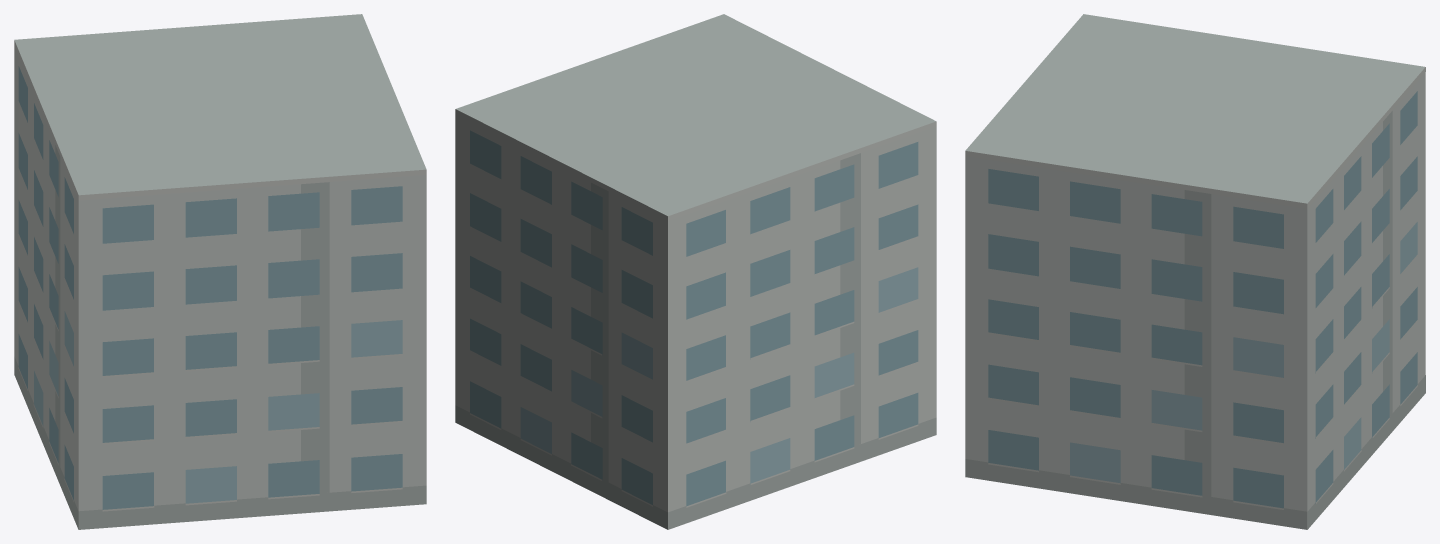
The model's file is residential-fc3b00f5-edf3-4f63-9893-389c9d15521f.glb.
The picture shows the model from 3 angles, left to right: view 1: azimuth 30°, elevation 25°; view 2: azimuth 150°, elevation 25°; view 3: azimuth 270°, elevation 25°; orthographic projection. The views are drawn at different scales.
Visible parts, largest first — view 1: residential-fc3b00f5-edf3-4f63-9893-389c9d15521f.tmp; view 2: residential-fc3b00f5-edf3-4f63-9893-389c9d15521f.tmp; view 3: residential-fc3b00f5-edf3-4f63-9893-389c9d15521f.tmp.
Part boxes in pixels (x1,y1,x2,y2): residential-fc3b00f5-edf3-4f63-9893-389c9d15521f.tmp: [14, 14, 426, 529]; residential-fc3b00f5-edf3-4f63-9893-389c9d15521f.tmp: [455, 14, 936, 529]; residential-fc3b00f5-edf3-4f63-9893-389c9d15521f.tmp: [965, 14, 1425, 529].
Size of the model in its own units: 19.01 by 15.25 by 19.51.
